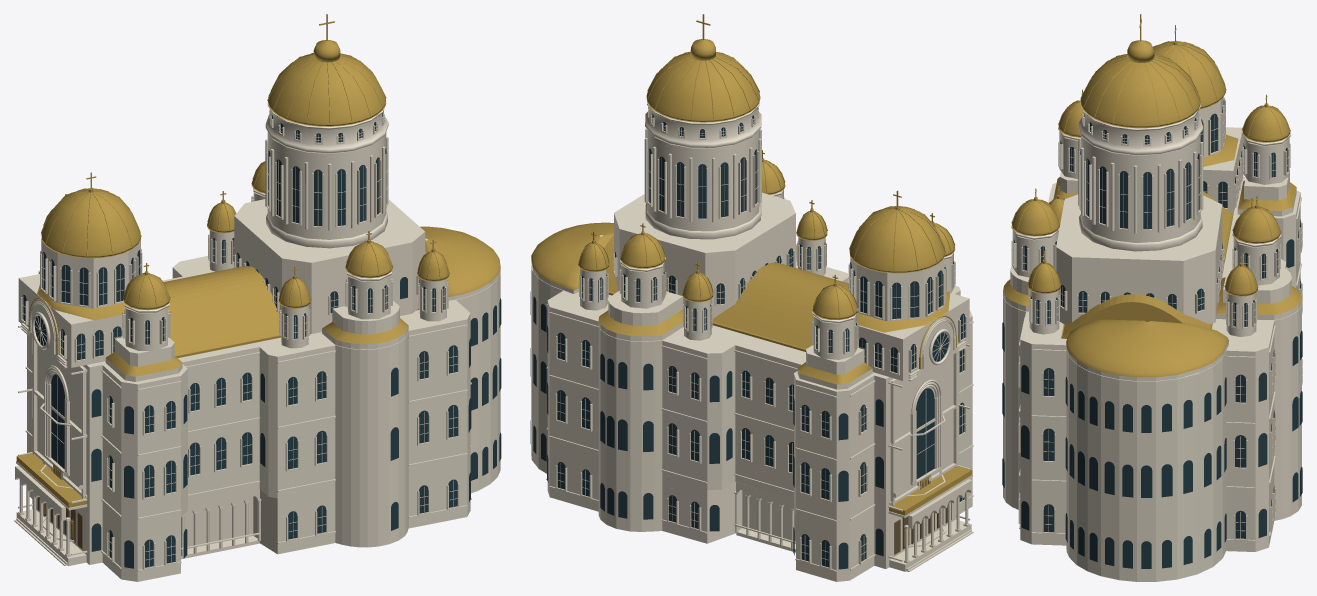
Rendered from peoples-salvation-cathedral-near.glb.
3 views of the same model, side by side, from view 1: azimuth 30°, elevation 25°; view 2: azimuth 150°, elevation 25°; view 3: azimuth 270°, elevation 25° (orthographic). The views are drawn at different scales.
Parts seen in each view (by area): view 1: peoples-salvation-cathedral-0-stone, peoples-salvation-cathedral-0-gold, peoples-salvation-cathedral-0-glass; view 2: peoples-salvation-cathedral-0-stone, peoples-salvation-cathedral-0-gold, peoples-salvation-cathedral-0-glass, peoples-salvation-cathedral-0-mosaic; view 3: peoples-salvation-cathedral-0-stone, peoples-salvation-cathedral-0-gold, peoples-salvation-cathedral-0-glass.
Boxes of the visible parts, <box> form: peoples-salvation-cathedral-0-stone: <box>14,100,500,581</box>; peoples-salvation-cathedral-0-gold: <box>16,14,500,507</box>; peoples-salvation-cathedral-0-glass: <box>22,113,501,568</box>; peoples-salvation-cathedral-0-stone: <box>531,101,973,581</box>; peoples-salvation-cathedral-0-gold: <box>531,14,972,515</box>; peoples-salvation-cathedral-0-glass: <box>530,108,965,569</box>; peoples-salvation-cathedral-0-mosaic: <box>894,502,951,554</box>; peoples-salvation-cathedral-0-stone: <box>1003,97,1302,581</box>; peoples-salvation-cathedral-0-gold: <box>1003,14,1301,377</box>; peoples-salvation-cathedral-0-glass: <box>1002,98,1302,568</box>.
Size of the model in its own units: 122 by 127 by 71.22.
